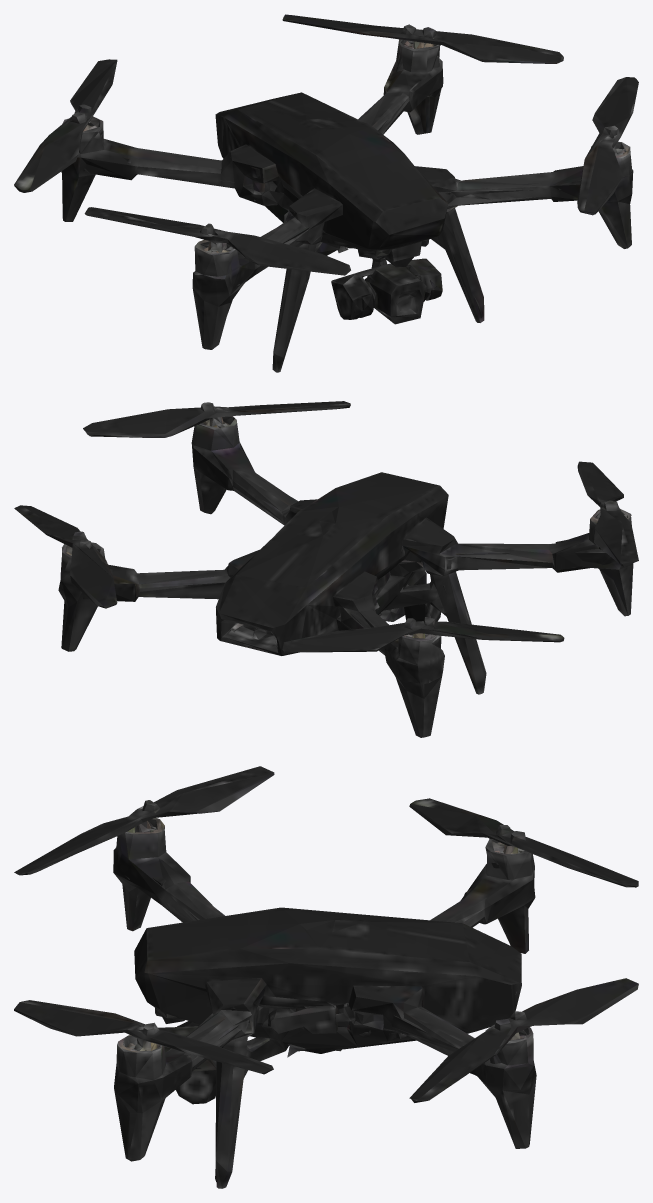
The model's file is drone.glb.
3 views of the same model, one above another, from view 1: azimuth 30°, elevation 25°; view 2: azimuth 150°, elevation 25°; view 3: azimuth 270°, elevation 25° (orthographic). The views are drawn at different scales.
Size of the model in its own units: 0.9842 by 0.3277 by 0.8489.
Materials: 1 (1 with a texture image).
